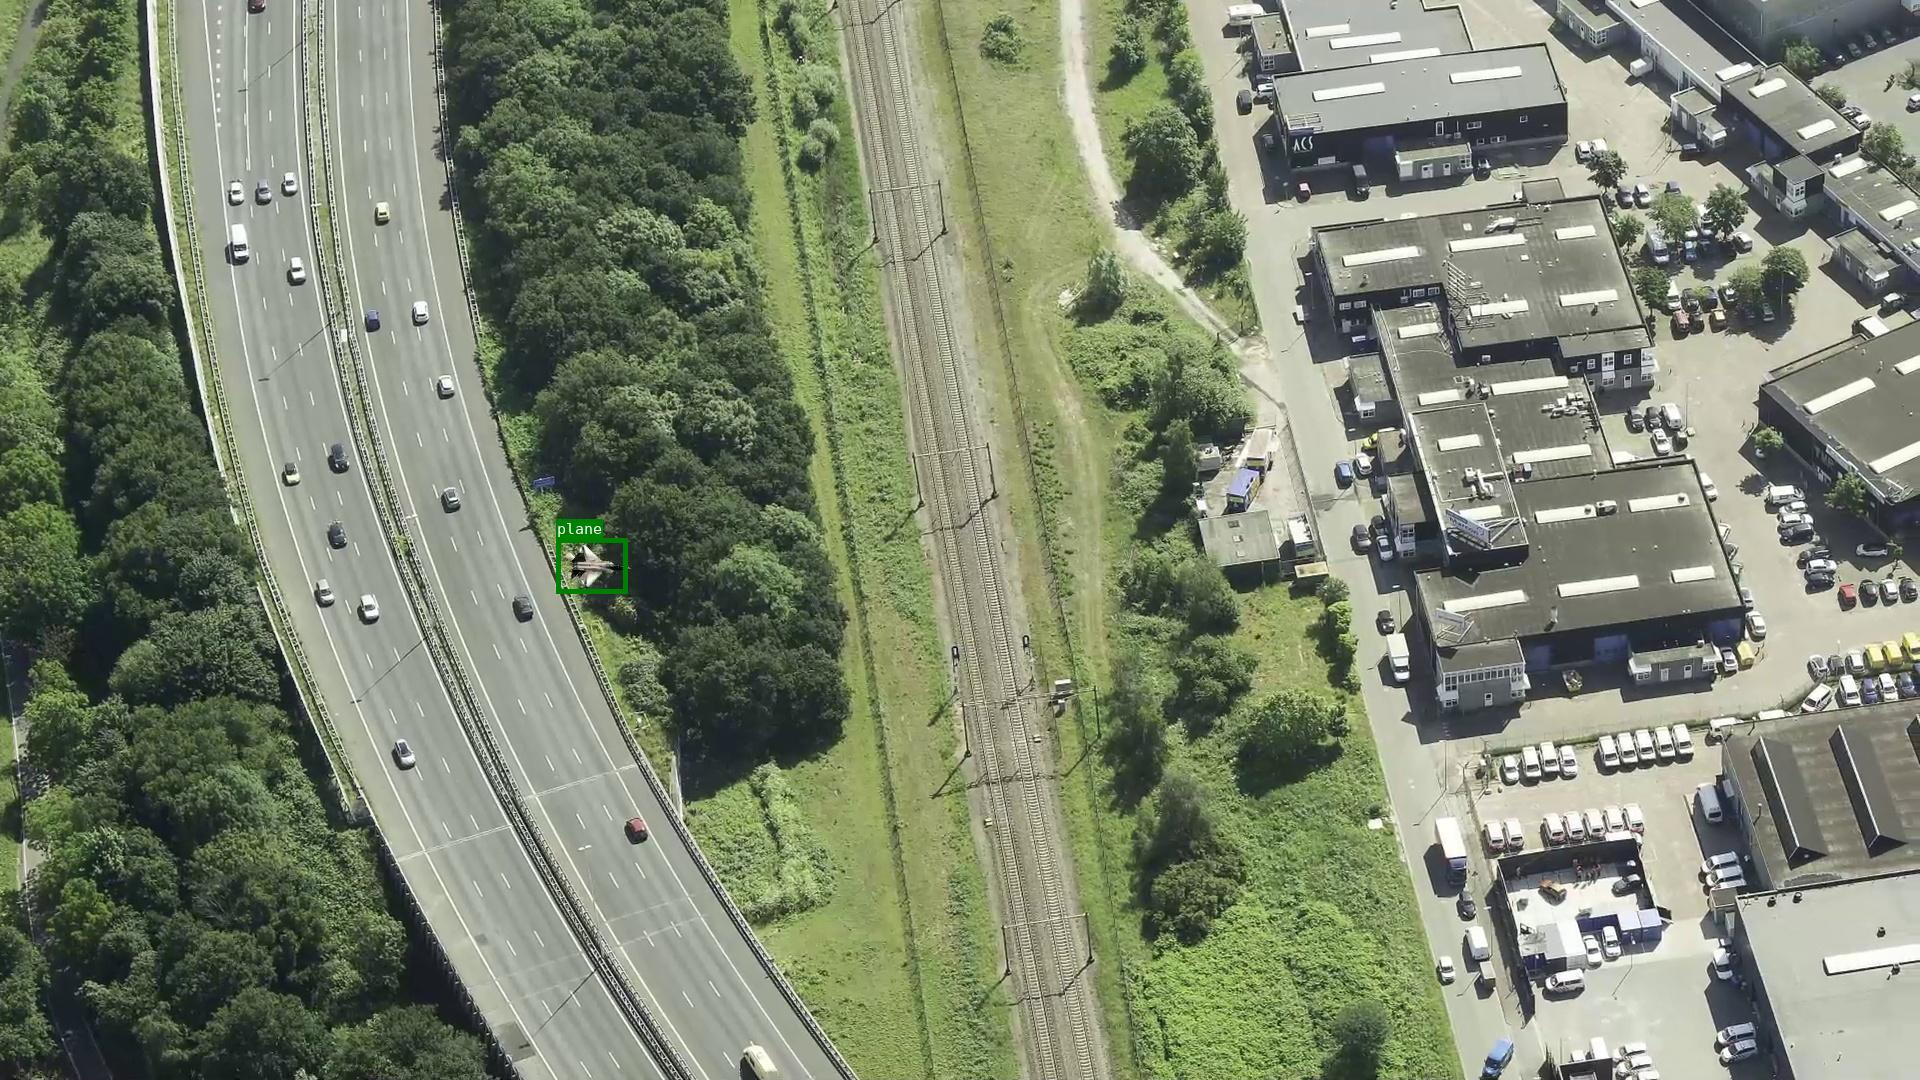plane: (556, 538, 626, 593)
